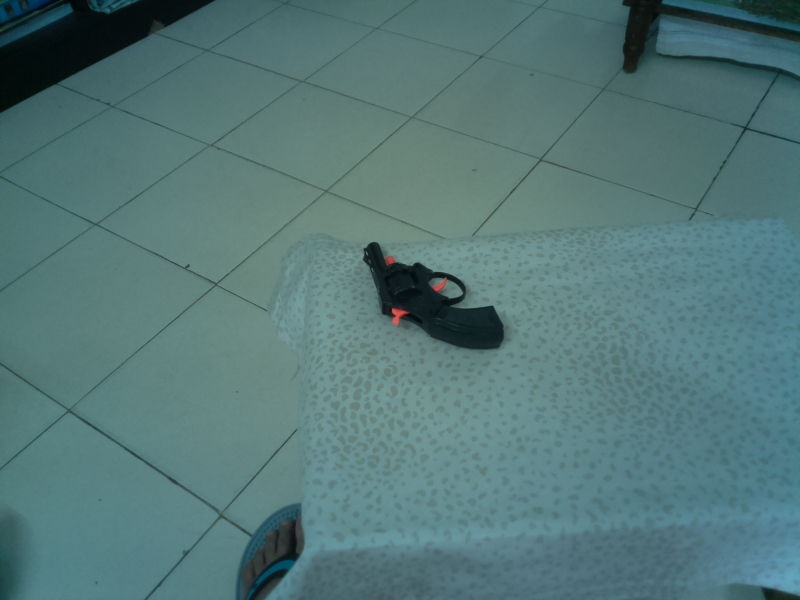Gun: (359, 237, 511, 355)
